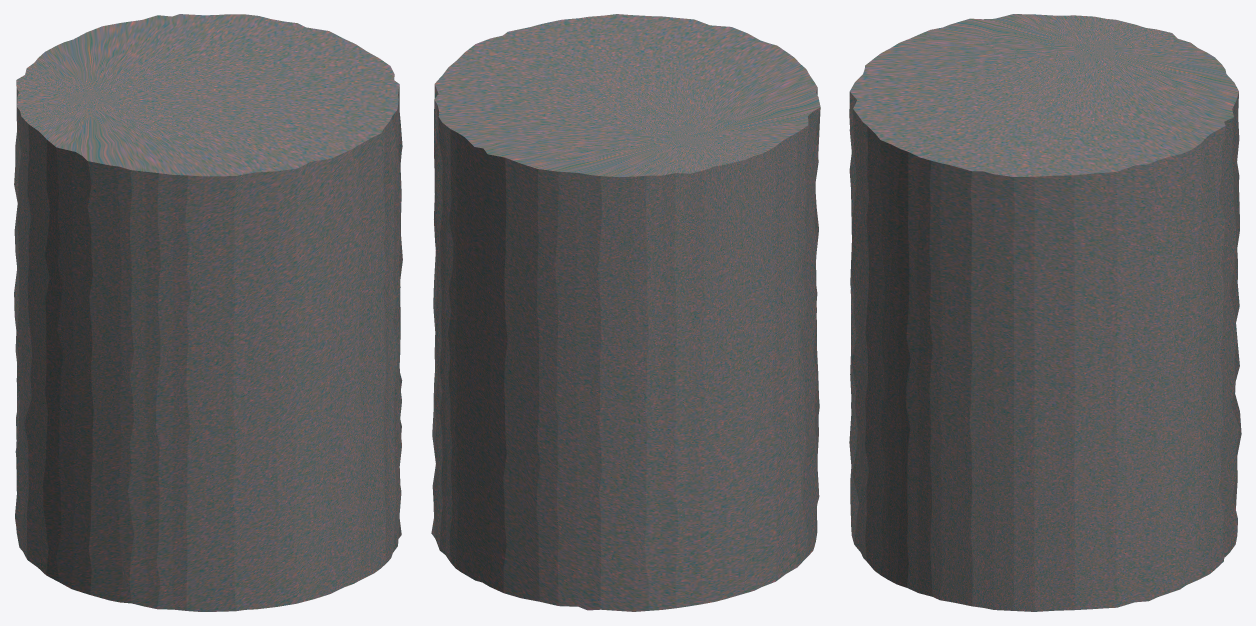
File: barrel_9.dae
3 views of the same model, side by side, from view 1: azimuth 30°, elevation 25°; view 2: azimuth 150°, elevation 25°; view 3: azimuth 270°, elevation 25° (orthographic).
Parts seen in each view (by area): view 1: Cylinder; view 2: Cylinder; view 3: Cylinder.
Boxes of the visible parts, left/top/right/bottom form: Cylinder: left=14, top=14, right=402, bottom=611; Cylinder: left=431, top=14, right=820, bottom=611; Cylinder: left=849, top=14, right=1241, bottom=611.
Size of the model in its own units: 0.8158 by 0.8158 by 1.
Materials: 1 (1 with a texture image).
